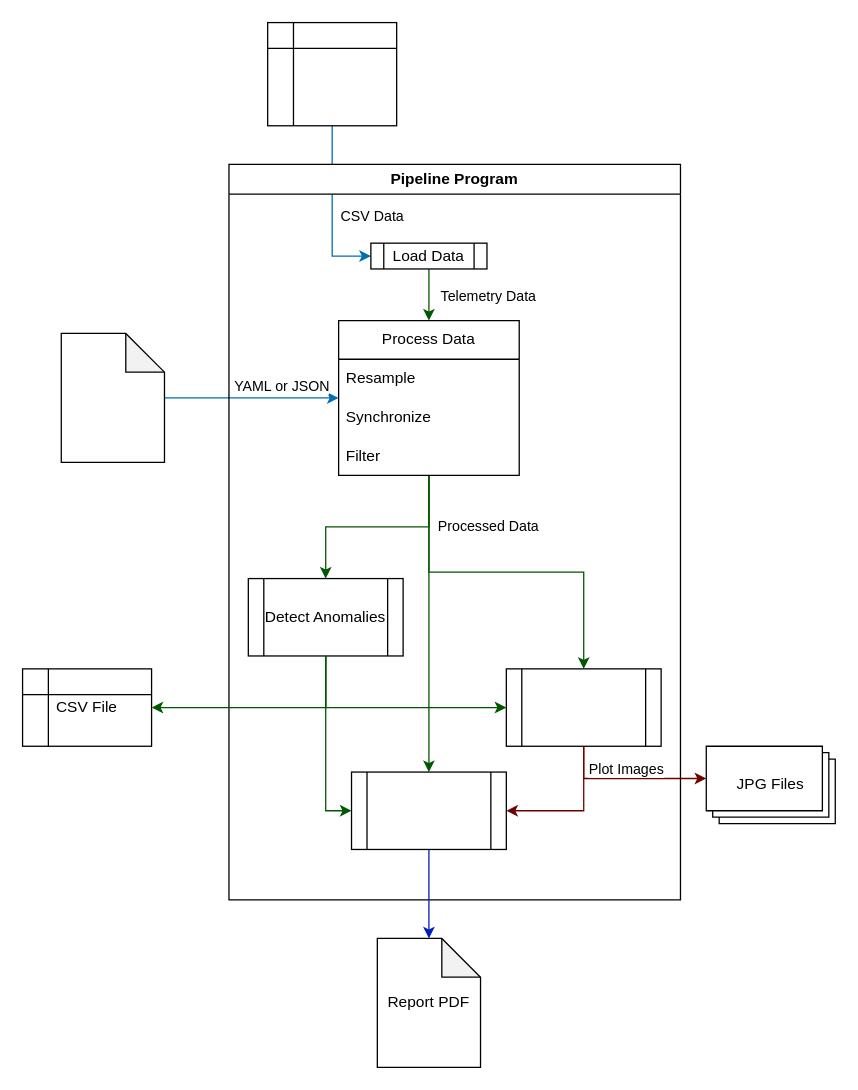
The diagram is 858 pixels wide and 1090 high, and some of its shapes have lost their labels. Here are the shapes that lost their labels. From the top down, the centre of each, then its label:
(331,73): Telemetry
(112,397): Config File
(583,707): Plot
(428,810): Generate Report
